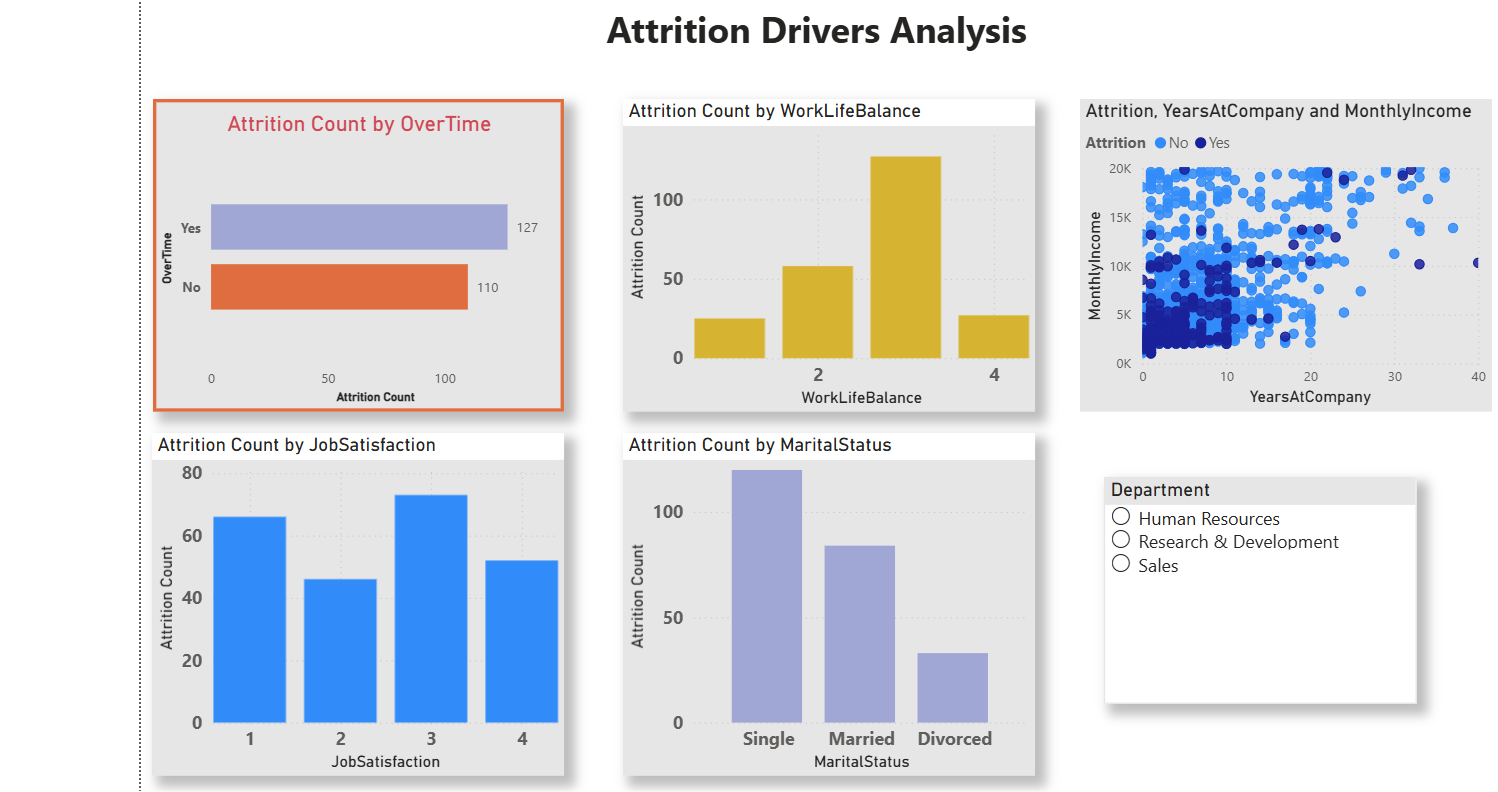

Layout of this report page (visuals, bound fields, positions):
{"tool":"powerbi","page":{"name":"Attrition Drivers","canvas":[1280,720],"ordinal":1},"visuals":[{"type":"clusteredBarChart","fields":{"Category":["WA_Fn-UseC_-HR-Employee-Attrition.OverTime"],"Y":["WA_Fn-UseC_-HR-Employee-Attrition.Attrition Count"]},"box":[10.7,98.2,367.7,280.1],"z":0},{"type":"columnChart","fields":{"Y":["WA_Fn-UseC_-HR-Employee-Attrition.Attrition Count"],"Category":["WA_Fn-UseC_-HR-Employee-Attrition.JobSatisfaction"]},"box":[9.7,397.8,368.6,307.4],"z":1000},{"type":"clusteredColumnChart","fields":{"Category":["WA_Fn-UseC_-HR-Employee-Attrition.WorkLifeBalance"],"Y":["WA_Fn-UseC_-HR-Employee-Attrition.Attrition Count"]},"box":[431.9,98.2,368.6,280.1],"z":2000},{"type":"columnChart","fields":{"Category":["WA_Fn-UseC_-HR-Employee-Attrition.MaritalStatus"],"Y":["WA_Fn-UseC_-HR-Employee-Attrition.Attrition Count"]},"box":[431.9,397.8,368.6,307.4],"z":3000},{"type":"scatterChart","fields":{"X":["WA_Fn-UseC_-HR-Employee-Attrition.YearsAtCompany"],"Series":["WA_Fn-UseC_-HR-Employee-Attrition.Attrition"],"Y":["WA_Fn-UseC_-HR-Employee-Attrition.MonthlyIncome"]},"box":[841.3,98.2,368.6,280.1],"z":4000},{"type":"textbox","box":[0,7.8,1210,57.4],"z":5000},{"type":"listSlicer","fields":{"Values":["WA_Fn-UseC_-HR-Employee-Attrition.Department"]},"box":[862.4,437,280.3,203.3],"z":5001}]}

Visuals, with their boxes on the page's 1280x720 design canvas (x1, y1, x2, y2). These are canvas units, not pixel positions in the 1498x792 screenshot, which may show the page scaled, cropped or inside an application window:
clusteredBarChart - WA_Fn-UseC_-HR-Employee-Attrition.OverTime x WA_Fn-UseC_-HR-Employee-Attrition.Attrition Count: {"left": 11, "top": 98, "right": 378, "bottom": 378}
columnChart - WA_Fn-UseC_-HR-Employee-Attrition.Attrition Count x WA_Fn-UseC_-HR-Employee-Attrition.JobSatisfaction: {"left": 10, "top": 398, "right": 378, "bottom": 705}
clusteredColumnChart - WA_Fn-UseC_-HR-Employee-Attrition.WorkLifeBalance x WA_Fn-UseC_-HR-Employee-Attrition.Attrition Count: {"left": 432, "top": 98, "right": 800, "bottom": 378}
columnChart - WA_Fn-UseC_-HR-Employee-Attrition.MaritalStatus x WA_Fn-UseC_-HR-Employee-Attrition.Attrition Count: {"left": 432, "top": 398, "right": 800, "bottom": 705}
scatterChart - WA_Fn-UseC_-HR-Employee-Attrition.YearsAtCompany x WA_Fn-UseC_-HR-Employee-Attrition.Attrition: {"left": 841, "top": 98, "right": 1210, "bottom": 378}
textbox: {"left": 0, "top": 8, "right": 1210, "bottom": 65}
listSlicer - WA_Fn-UseC_-HR-Employee-Attrition.Department: {"left": 862, "top": 437, "right": 1143, "bottom": 640}
